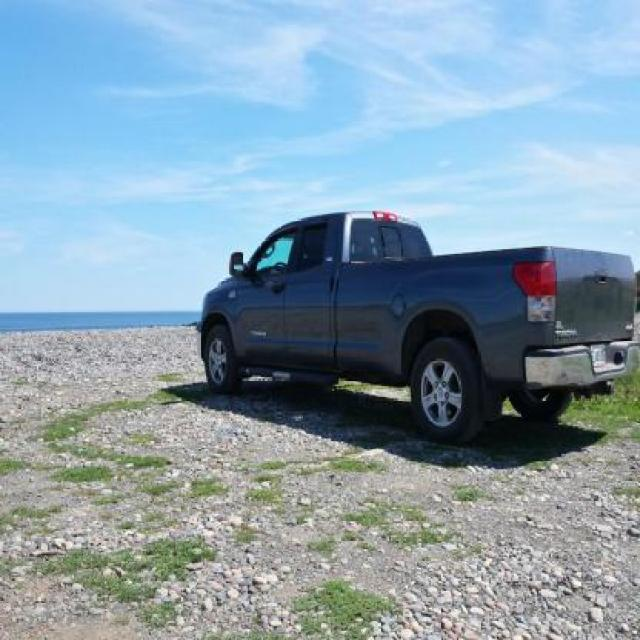License-Plates: (586, 340, 618, 378)
